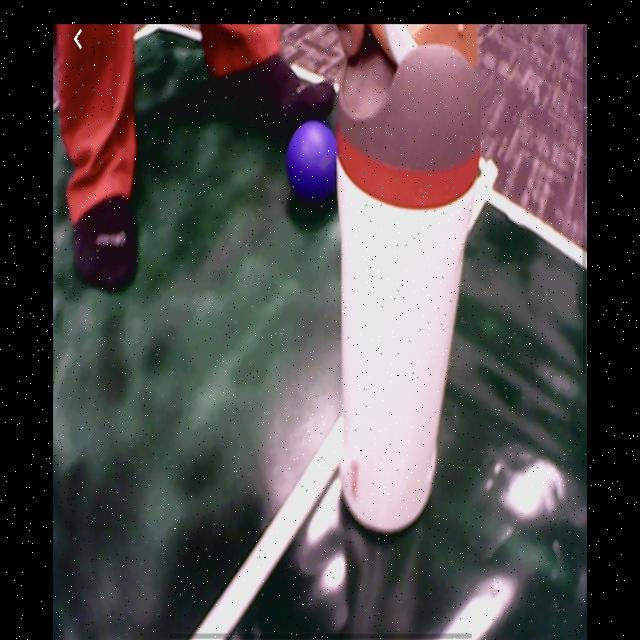ball: (286, 121, 339, 205)
